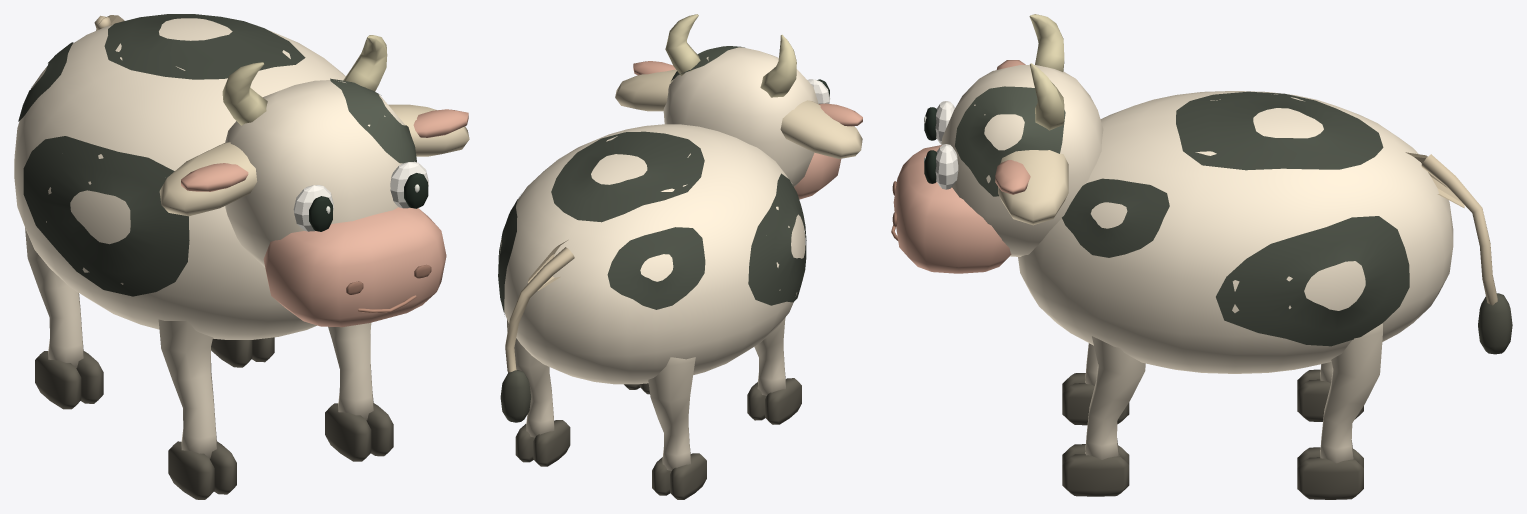
Rendered from cow-lod.glb.
3 views of the same model, side by side, from view 1: azimuth 30°, elevation 25°; view 2: azimuth 150°, elevation 25°; view 3: azimuth 270°, elevation 25° (orthographic). The views are drawn at different scales.
Visible parts, largest first — view 1: sculpted-shoulders-belly, head-and-forehead, flush-coat-marking-1, soft-pink-muzzle, flush-coat-marking-2, curved-leg-2, ear--1, curved-leg-0, curved-leg-3, forehead-coat-marking, cloven-hoof-0-toe--1, cloven-hoof-3-toe--1 (+16 smaller); view 2: sculpted-shoulders-belly, head-and-forehead, flush-coat-marking-2, flush-coat-marking-4, flush-coat-marking-1, curved-leg-0, ear--1, curved-leg-1, ear-1, curving-tail, curved-leg-2, tail-tuft (+13 smaller); view 3: sculpted-shoulders-belly, flush-coat-marking-0, flush-coat-marking-2, head-and-forehead, soft-pink-muzzle, flush-coat-marking-3, forehead-coat-marking, curved-leg-1, curved-leg-3, ear-1, cloven-hoof-3-toe-1, cloven-hoof-1-toe-1 (+8 smaller).
Boxes of the visible parts, x1=… form: sculpted-shoulders-belly: x1=14, y1=18, x2=345, y2=339; head-and-forehead: x1=225, y1=80, x2=405, y2=267; flush-coat-marking-1: x1=23, y1=136, x2=189, y2=296; soft-pink-muzzle: x1=263, y1=207, x2=446, y2=327; flush-coat-marking-2: x1=104, y1=14, x2=305, y2=79; curved-leg-2: x1=158, y1=319, x2=216, y2=458; ear--1: x1=159, y1=142, x2=257, y2=216; curved-leg-0: x1=25, y1=228, x2=83, y2=367; curved-leg-3: x1=328, y1=323, x2=373, y2=420; forehead-coat-marking: x1=330, y1=78, x2=416, y2=163; cloven-hoof-0-toe--1: x1=35, y1=351, x2=81, y2=409; cloven-hoof-3-toe--1: x1=325, y1=403, x2=371, y2=461; sculpted-shoulders-belly: x1=500, y1=124, x2=805, y2=384; head-and-forehead: x1=663, y1=47, x2=818, y2=186; flush-coat-marking-2: x1=551, y1=131, x2=704, y2=222; flush-coat-marking-4: x1=607, y1=227, x2=705, y2=309; flush-coat-marking-1: x1=748, y1=173, x2=806, y2=305; curved-leg-0: x1=648, y1=357, x2=695, y2=470; ear--1: x1=780, y1=100, x2=862, y2=158; curved-leg-1: x1=507, y1=319, x2=554, y2=437; ear-1: x1=615, y1=69, x2=676, y2=111; curving-tail: x1=505, y1=247, x2=574, y2=372; curved-leg-2: x1=754, y1=317, x2=785, y2=395; tail-tuft: x1=500, y1=370, x2=530, y2=422; sculpted-shoulders-belly: x1=1018, y1=91, x2=1453, y2=373; flush-coat-marking-0: x1=1216, y1=216, x2=1409, y2=346; flush-coat-marking-2: x1=1176, y1=91, x2=1383, y2=170; head-and-forehead: x1=941, y1=65, x2=1103, y2=256; soft-pink-muzzle: x1=893, y1=145, x2=1011, y2=273; flush-coat-marking-3: x1=1062, y1=178, x2=1169, y2=257; forehead-coat-marking: x1=955, y1=86, x2=1065, y2=196; curved-leg-1: x1=1320, y1=323, x2=1382, y2=463; curved-leg-3: x1=1085, y1=336, x2=1145, y2=459; ear-1: x1=998, y1=150, x2=1068, y2=225; cloven-hoof-3-toe-1: x1=1062, y1=454, x2=1129, y2=496; cloven-hoof-1-toe-1: x1=1297, y1=457, x2=1363, y2=499.
Size of the model in its own units: 1.35 by 1.8 by 2.43.
